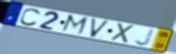2: (36, 10, 62, 32)
C: (19, 7, 43, 27)
J: (134, 28, 156, 47)
M: (59, 13, 90, 37)
V: (90, 17, 111, 39)
X: (109, 22, 136, 45)
